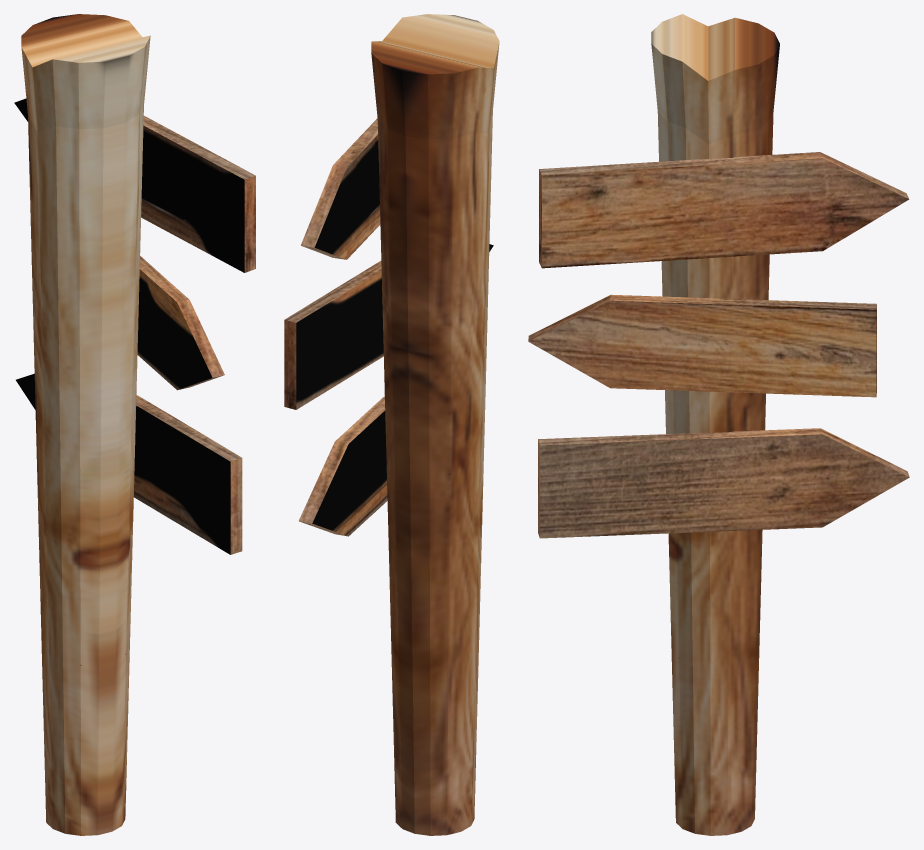
File: panneau_menu.fbx
The picture shows the model from 3 angles, left to right: view 1: azimuth 30°, elevation 25°; view 2: azimuth 150°, elevation 25°; view 3: azimuth 270°, elevation 25°; orthographic projection.
Visible parts, largest first — view 1: Pole, Panneau, Panneau_3, Panneau_2; view 2: Pole, Panneau_2, Panneau_3, Panneau; view 3: Pole, Panneau_3, Panneau, Panneau_2.
Part boxes in pixels (x1,y1,x2,y2): Pole: (21,14,150,835); Panneau: (14,98,255,272); Panneau_3: (16,373,242,554); Panneau_2: (137,256,224,390); Pole: (371,14,499,835); Panneau_2: (284,244,493,409); Panneau_3: (299,396,387,536); Panneau: (301,118,380,259); Pole: (651,14,779,835); Panneau_3: (538,428,909,538); Panneau: (539,152,909,268); Panneau_2: (528,294,876,397).
Bounding box in the file's own units: 0.7312 × 3.91 × 1.73.
2 materials, 2 textured.
